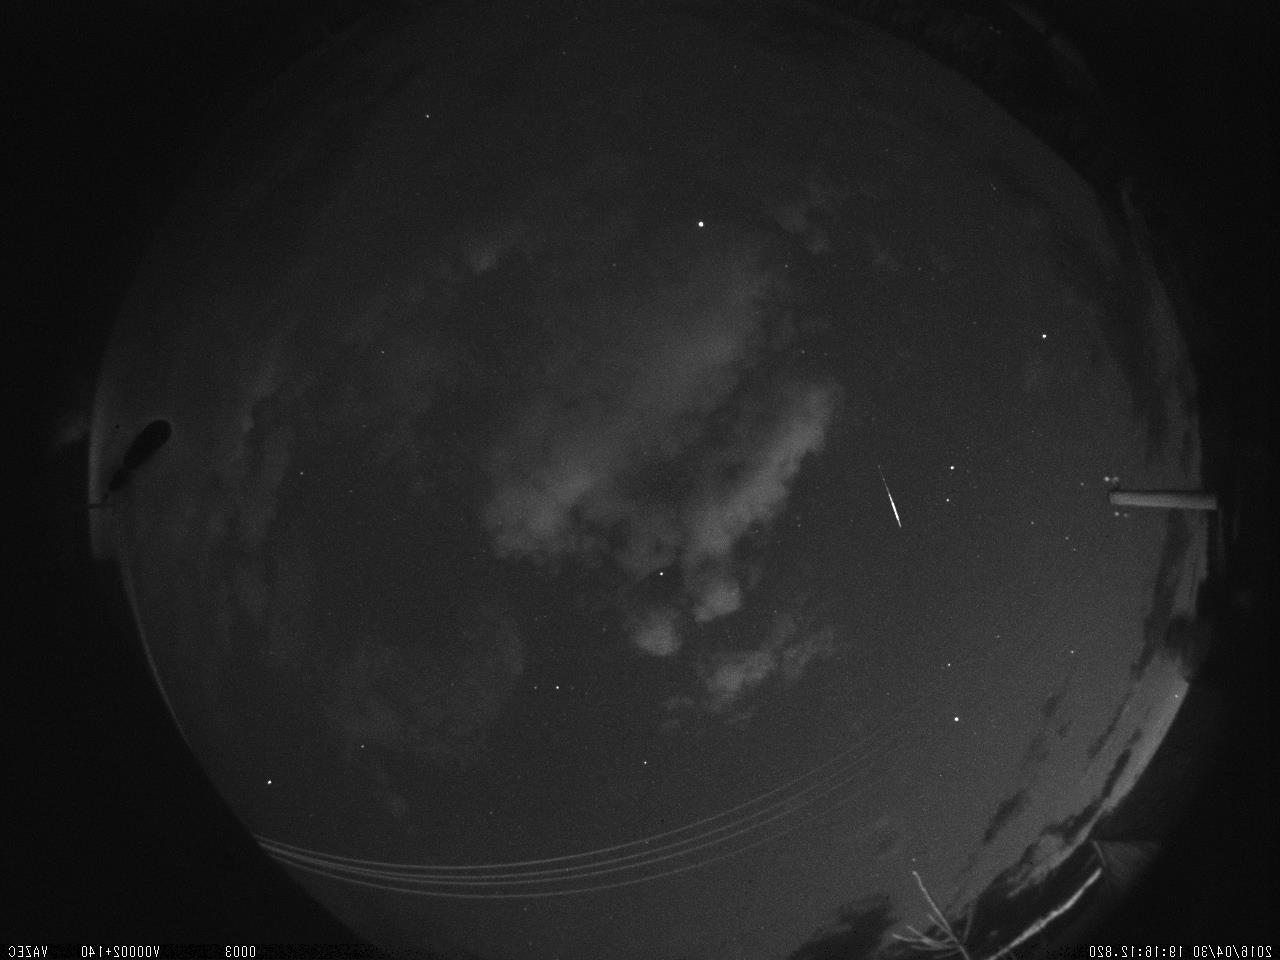meteor: (869, 443, 901, 548)
